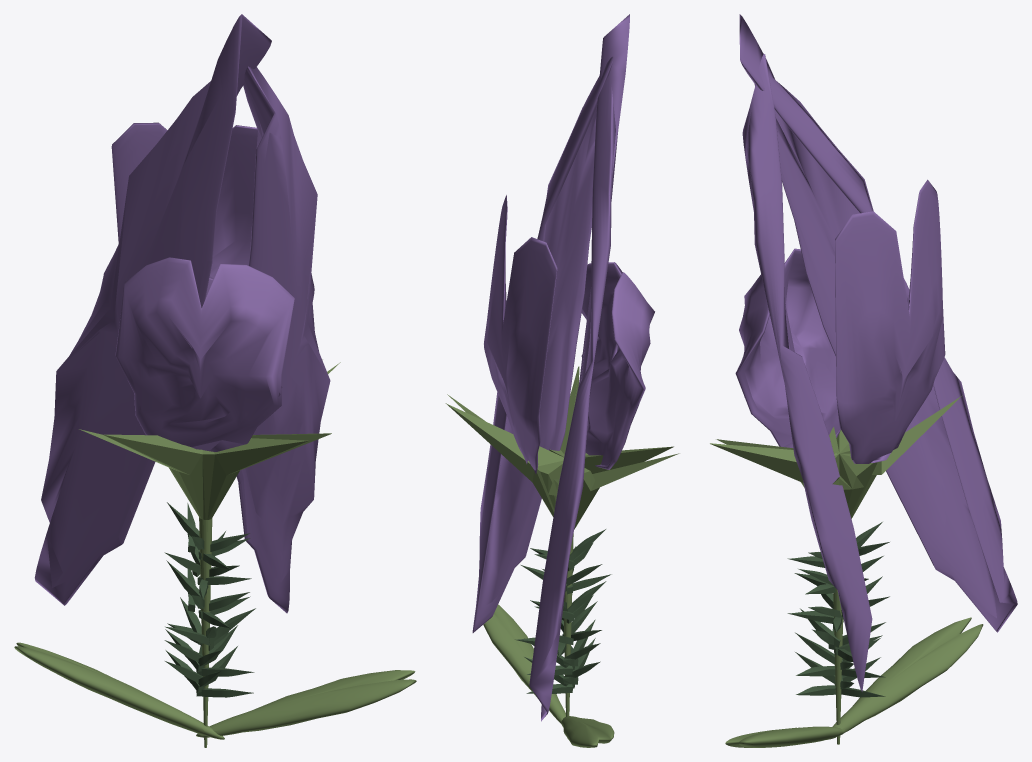
Rendered from Flower-model-stg1.fbx.
3 views of the same model, side by side, from view 1: azimuth 30°, elevation 25°; view 2: azimuth 150°, elevation 25°; view 3: azimuth 270°, elevation 25° (orthographic). The views are drawn at different scales.
Parts seen in each view (by area): view 1: pasted__pasted__pasted__pasted__pasted__pasted__pSphere1, pasted__pasted__pasted__pasted__pSphere1, pasted__pasted__pasted__pasted__pasted__pSphere1, pasted__pasted__pasted__pSphere1 (×2), pasted__pCylinder1, pasted__pasted__pSphere1; view 2: pasted__pasted__pasted__pasted__pasted__pSphere1, pasted__pasted__pasted__pasted__pasted__pasted__pSphere1, pasted__pasted__pasted__pSphere1 (×2), pasted__pasted__pasted__pasted__pSphere1, pasted__pCylinder1, pasted__pasted__pSphere1; view 3: pasted__pasted__pasted__pasted__pasted__pasted__pSphere1, pasted__pasted__pasted__pSphere1 (×2), pasted__pasted__pasted__pasted__pasted__pSphere1, pasted__pasted__pasted__pasted__pSphere1, pasted__pCylinder1, pasted__pasted__pSphere1.
Part boxes in pixels (x1,y1,x2,y2): pasted__pasted__pasted__pasted__pasted__pasted__pSphere1: (34, 14, 271, 605); pasted__pasted__pasted__pasted__pSphere1: (115, 257, 294, 451); pasted__pasted__pasted__pasted__pasted__pSphere1: (236, 66, 330, 613); pasted__pasted__pasted__pSphere1 (×2): (14, 122, 257, 739); pasted__pCylinder1: (79, 359, 340, 747); pasted__pasted__pSphere1: (196, 670, 416, 737); pasted__pasted__pasted__pasted__pasted__pSphere1: (472, 56, 613, 632); pasted__pasted__pasted__pasted__pasted__pasted__pSphere1: (529, 14, 629, 721); pasted__pasted__pasted__pSphere1 (×2): (484, 195, 614, 747); pasted__pasted__pasted__pasted__pSphere1: (581, 262, 654, 469); pasted__pCylinder1: (445, 366, 679, 716); pasted__pasted__pSphere1: (483, 604, 565, 723); pasted__pasted__pasted__pasted__pasted__pasted__pSphere1: (739, 14, 1017, 632); pasted__pasted__pasted__pSphere1 (×2): (827, 179, 983, 739); pasted__pasted__pasted__pasted__pasted__pSphere1: (742, 54, 872, 691); pasted__pasted__pasted__pasted__pSphere1: (735, 248, 840, 447); pasted__pCylinder1: (710, 395, 962, 744); pasted__pasted__pSphere1: (725, 726, 842, 747).
Size of the model in its own units: 4.07 by 10.65 by 4.12.
